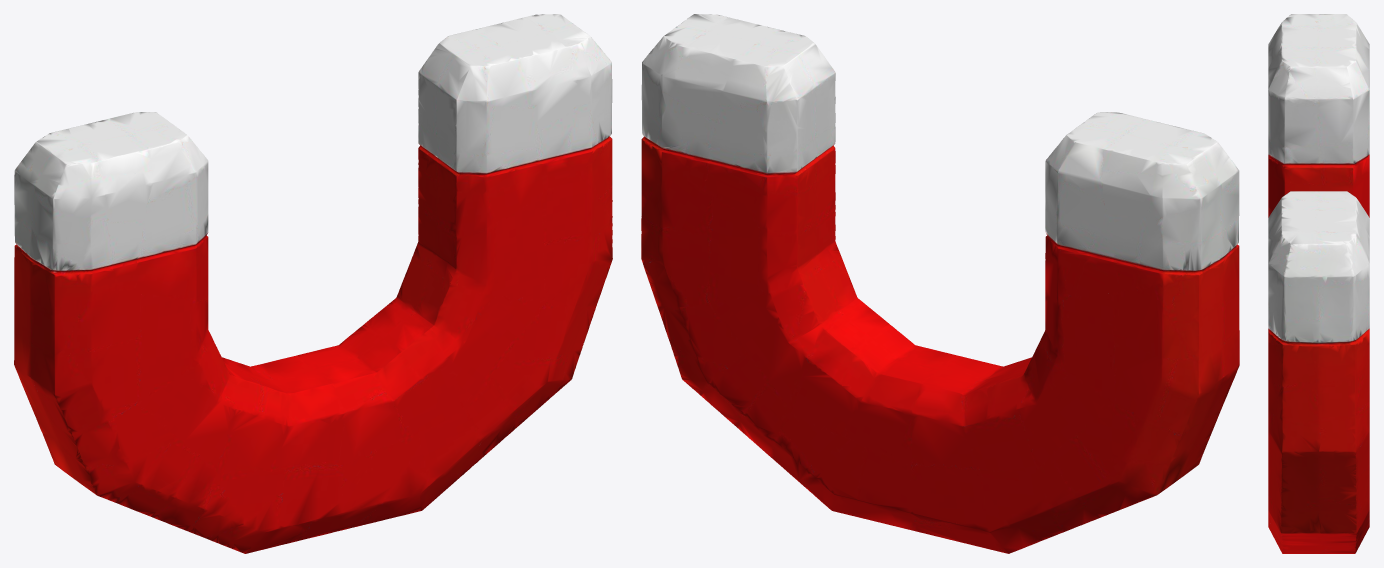
The model's file is magnet.glb.
3 views of the same model, side by side, from view 1: azimuth 30°, elevation 25°; view 2: azimuth 150°, elevation 25°; view 3: azimuth 270°, elevation 25° (orthographic). The views are drawn at different scales.
Size of the model in its own units: 1.9 by 1.38 by 0.327.
1 material, 1 textured.
